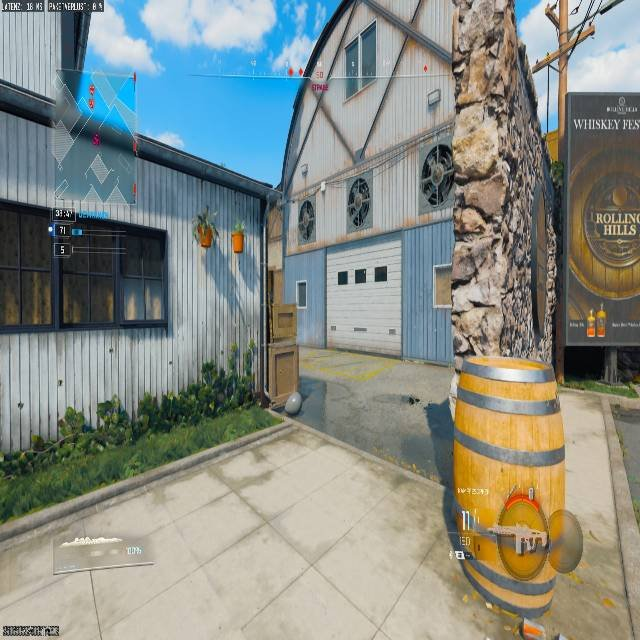player: (346, 175, 371, 231)
